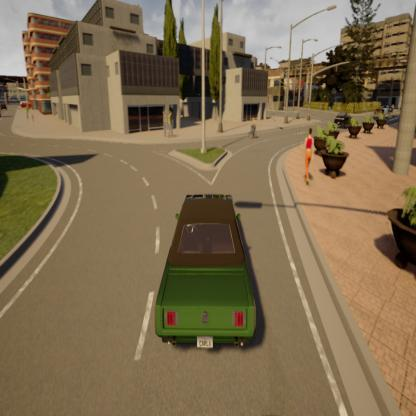Cars: (153, 190, 258, 353), (246, 116, 262, 140), (334, 110, 352, 129)
Pedestrian: (303, 124, 315, 188), (167, 110, 176, 139), (162, 109, 167, 138)
